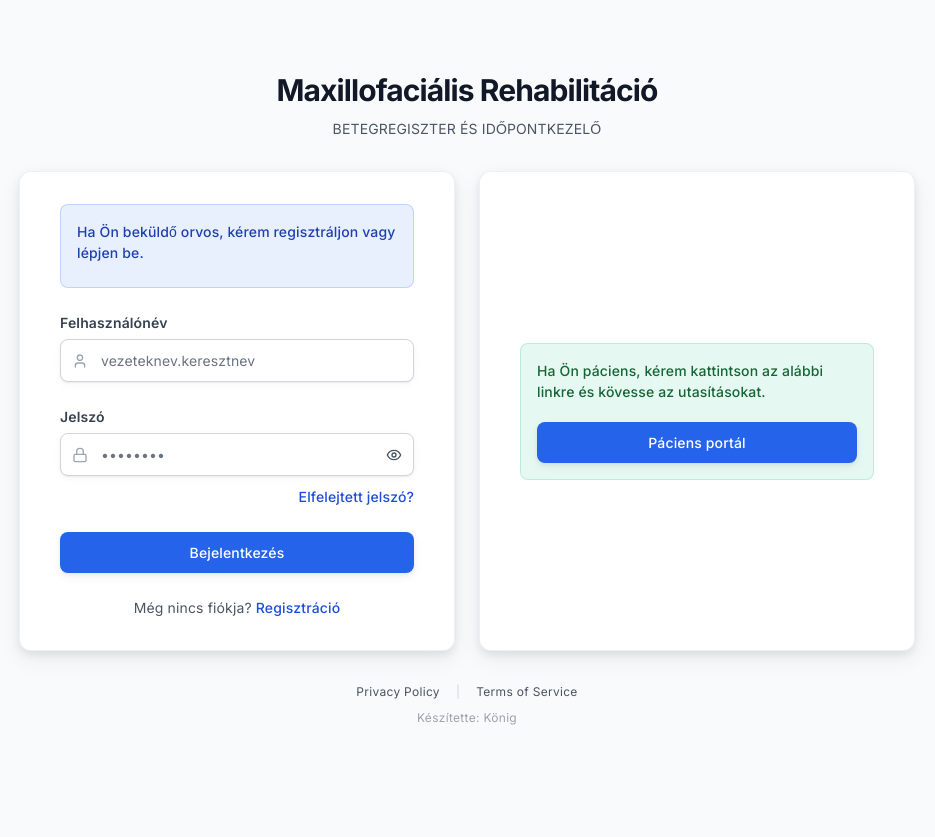
Scenario: Login — inaktivált fiók › ACCOUNT_DEACTIVATED: külön doboz, a jelszó-félreértést kizáró mondattal, forgot-link nélkül
Expected: the link "Elfelejtett jelszó?" is shown, [299,488,414,505]
In the field labelled "Felhasználónév": (237, 360) [60,339,414,382], type "doki@dev.local"
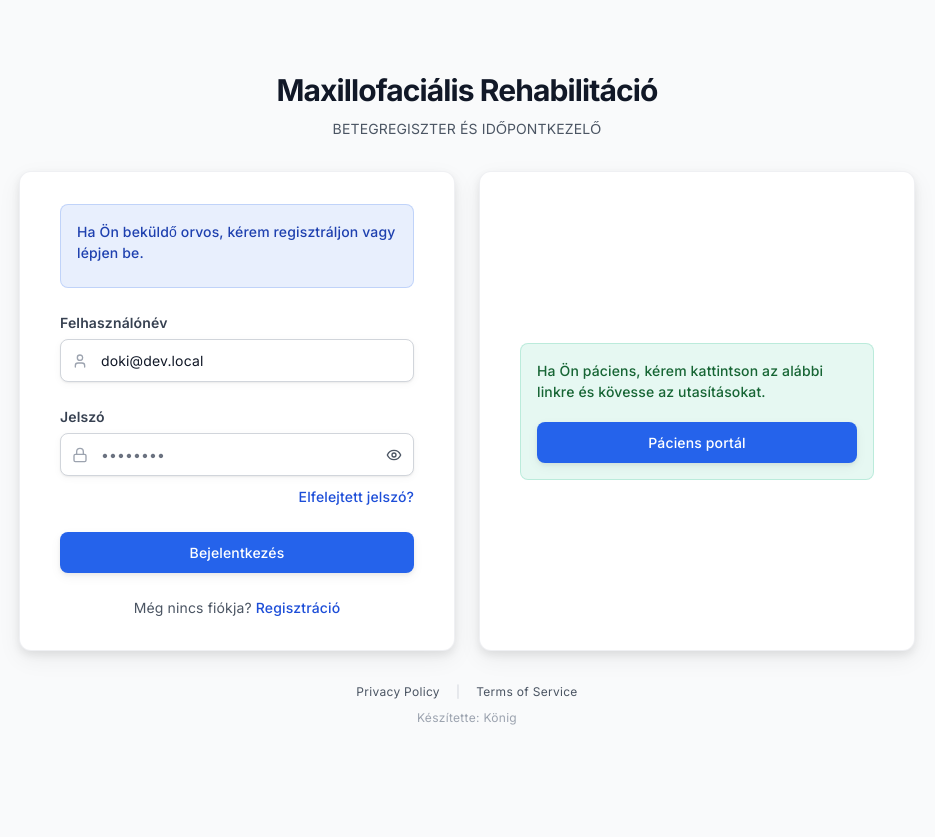
In the password field labelled "Jelszó": (237, 454) [60,433,414,476], type "x"
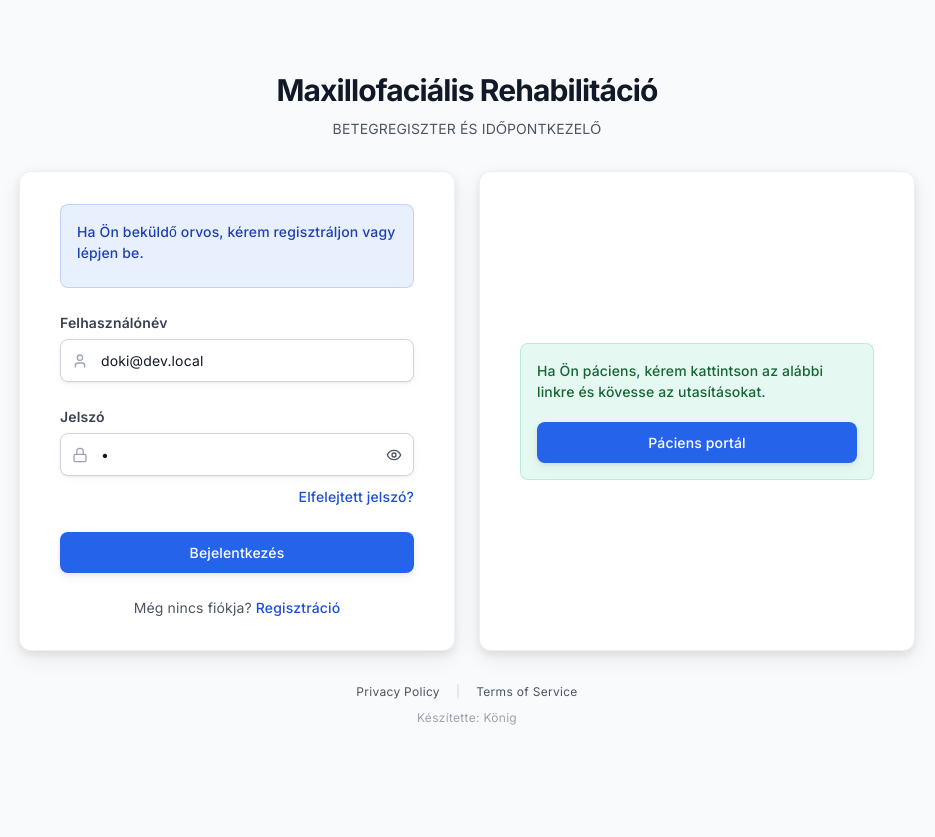
Click the button "Bejelentkezés": (237, 552) [60,532,414,573]
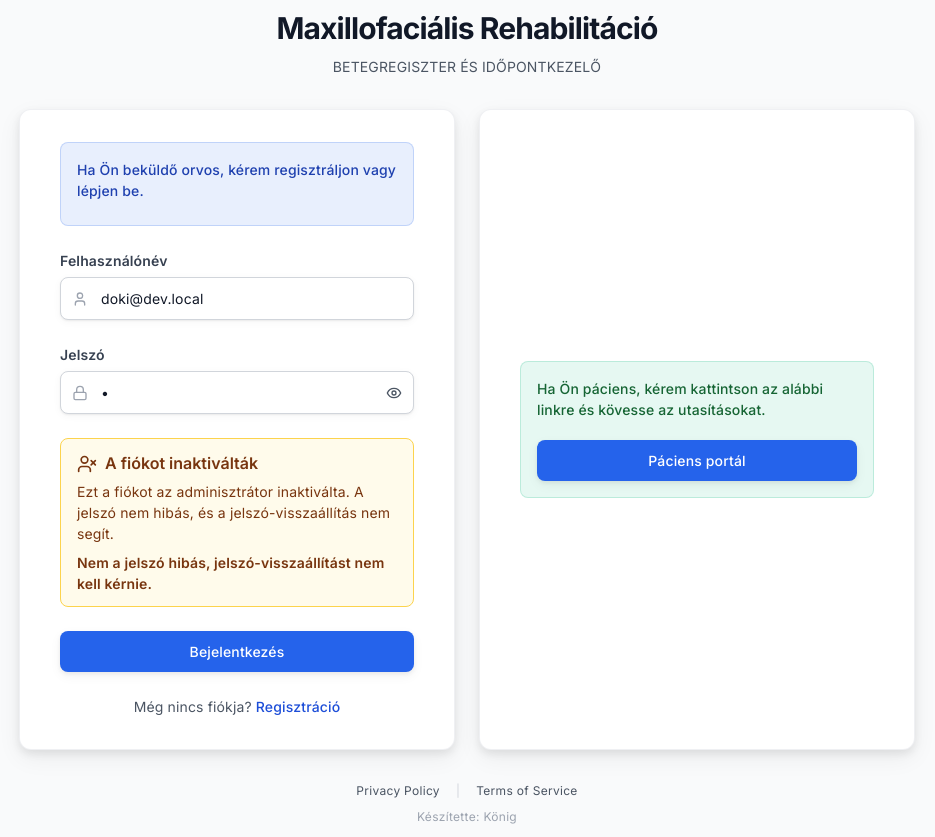
Now the message with test id "inactive-account-notice" shows "A fiókot inaktiválták", box [105,453,258,473]
Now the message with test id "inactive-account-notice" shows "inaktiválta", box [77,483,390,542]
Now the message with test id "inactive-account-notice" shows "Nem a jelszó hibás, jelszó-visszaállítást nem kell kérnie", box [77,554,384,592]
